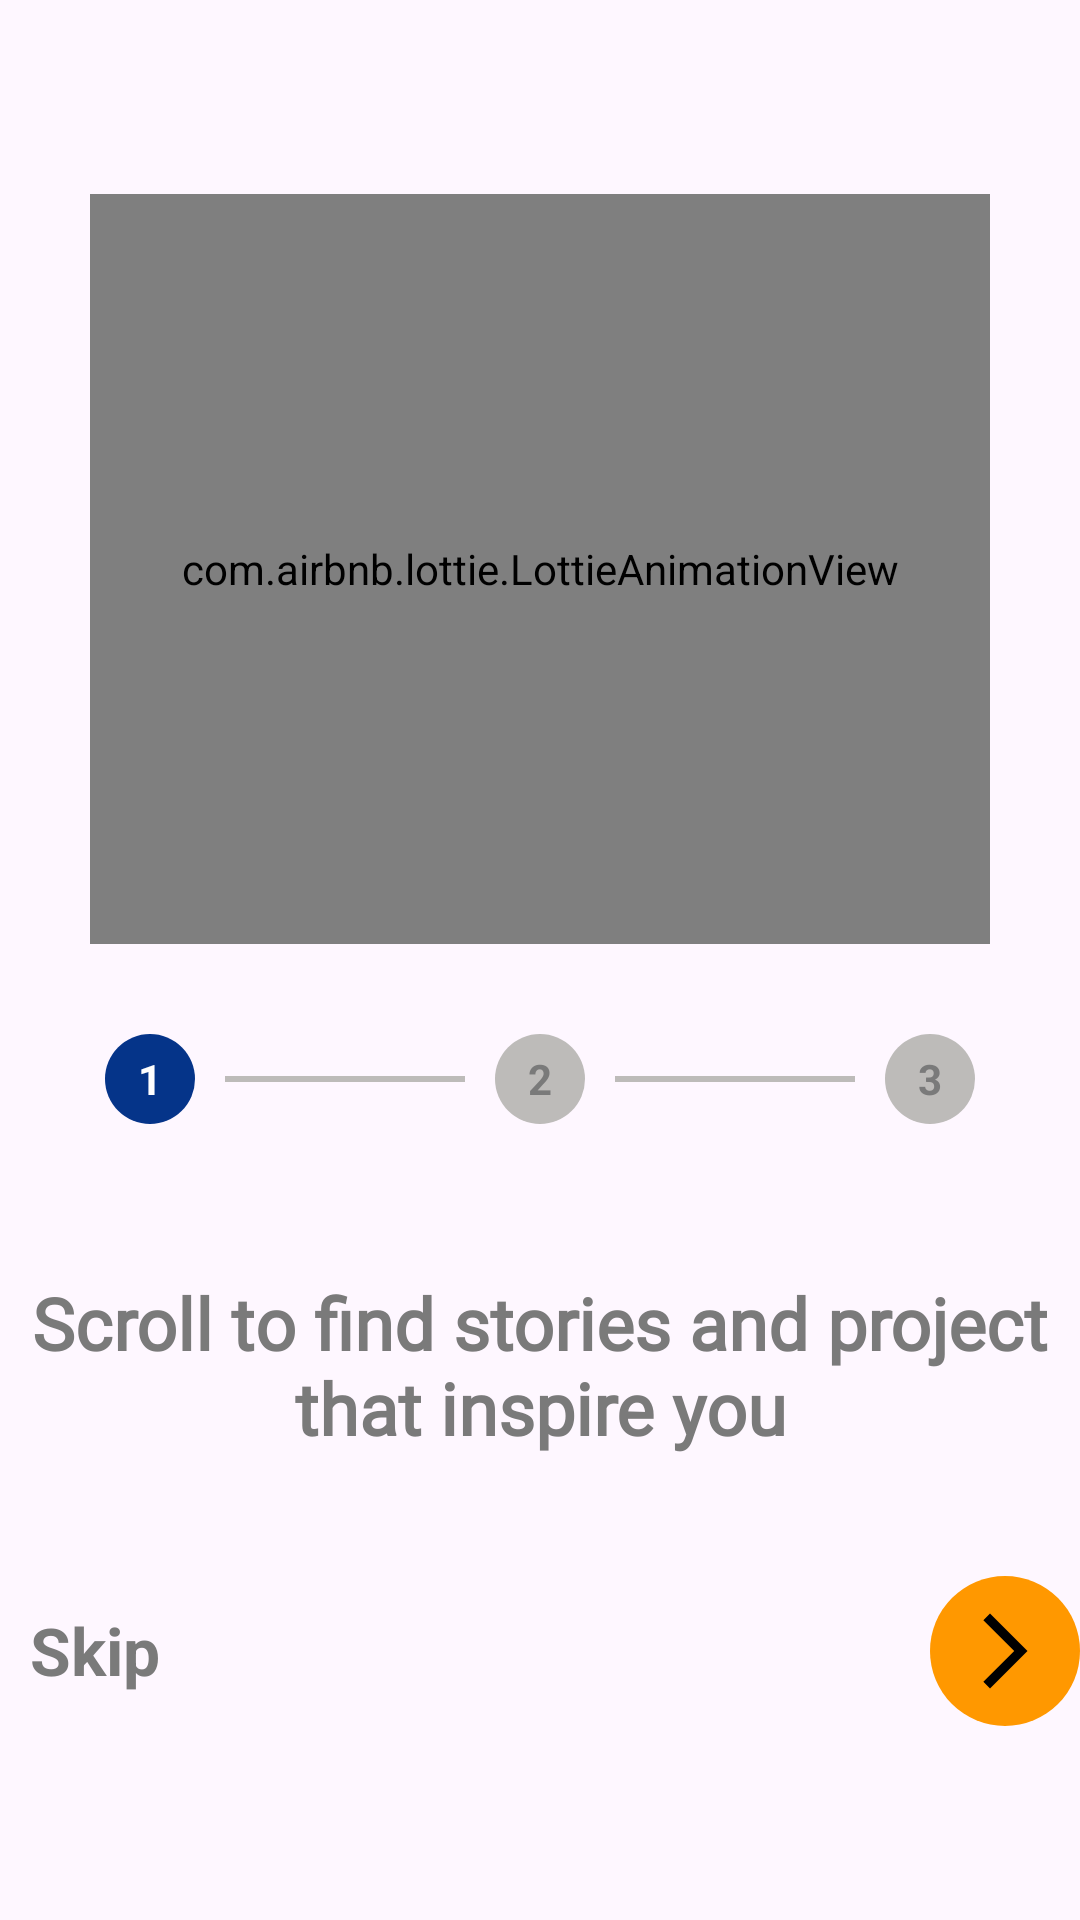

Icon bounding boxes for this 1080*1920 phone screenshot, format (x1, y1, x2, y2):
arrow forward: (930, 1576, 1080, 1726)
